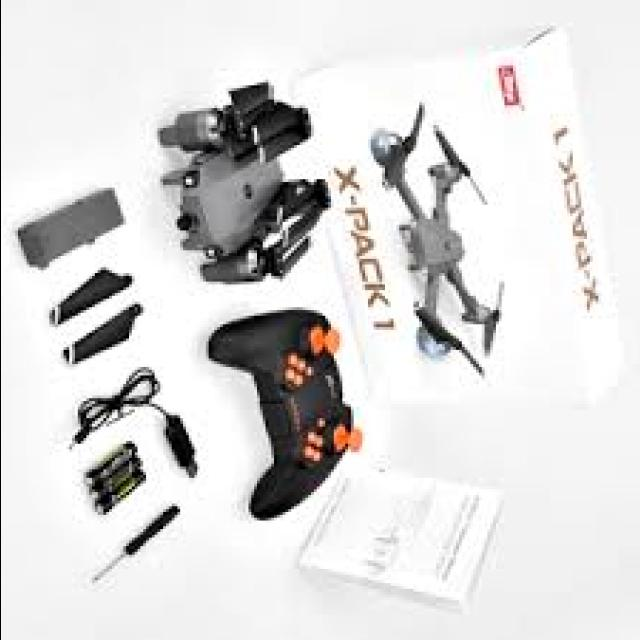drone: (368, 94, 508, 406)
